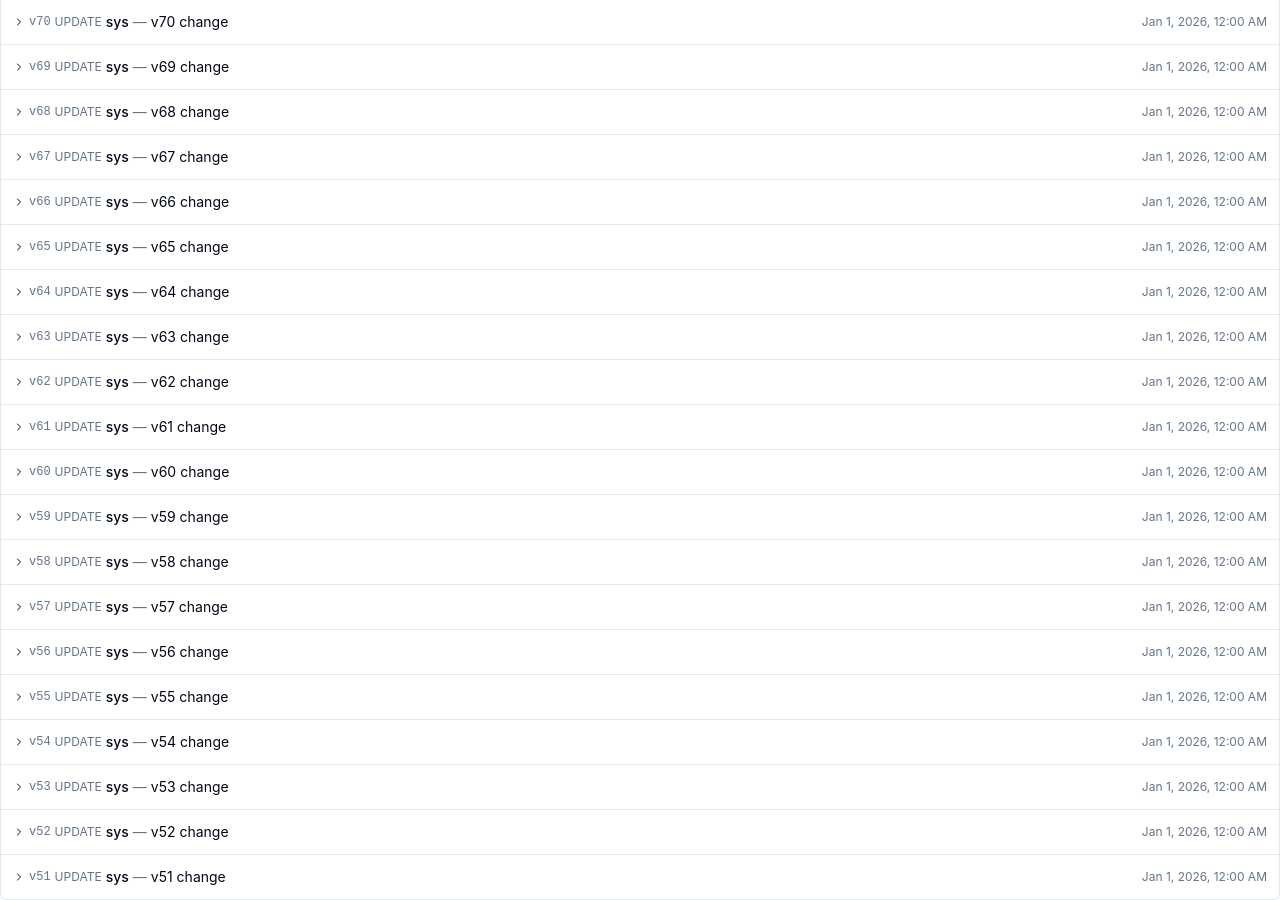
Test: PolicyAuditTimeline pagination boundary › shows a 'beyond the loaded window' hint for the last entry when full page
This screenshot has width=1280, height=900.
(page scrolled)
Click the text "v51 change" at x=188, y=877, box [151,867,226,887]
(page scrolled)
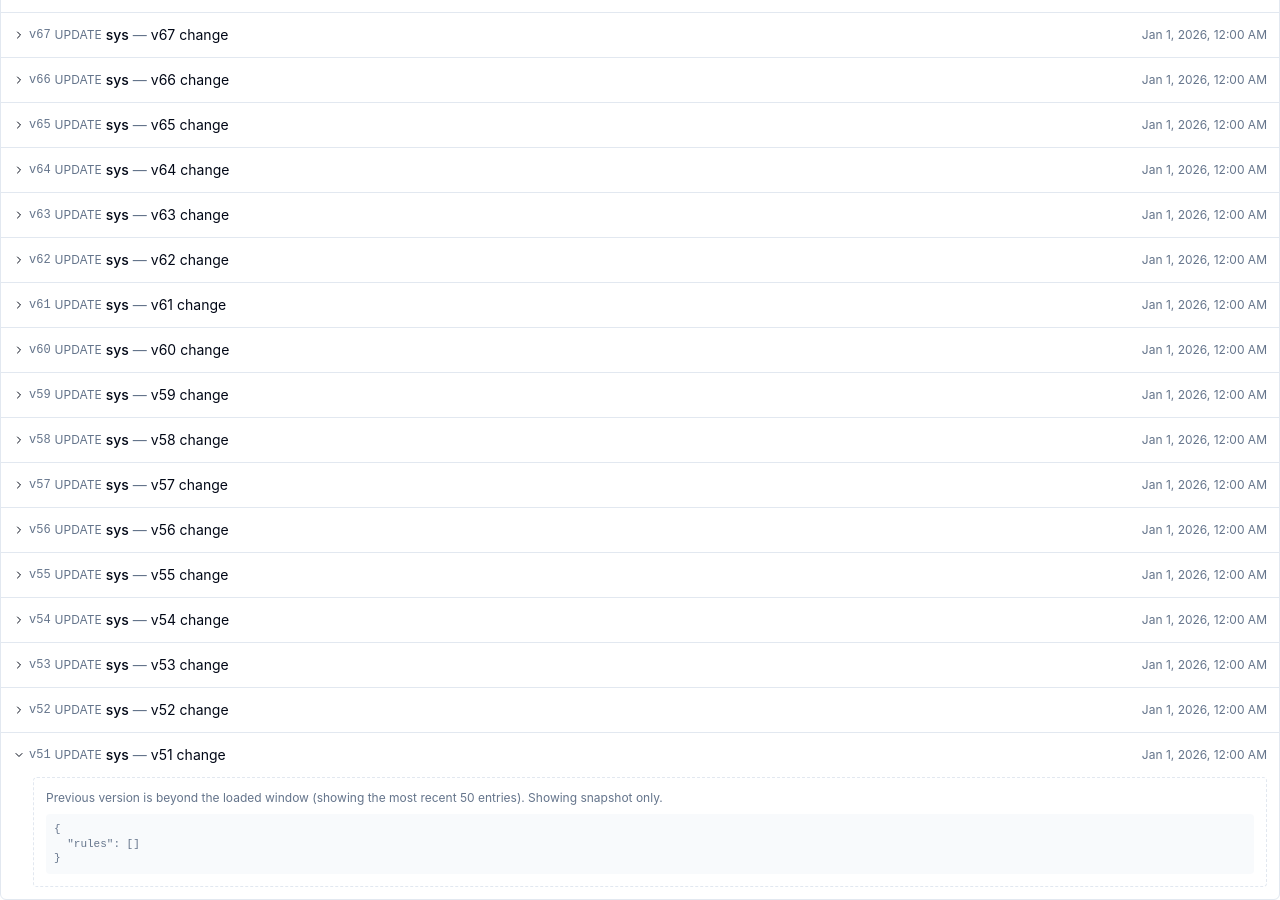
Now the text "Previous version is beyond the loaded window" is shown, box [46,790,460,805]
